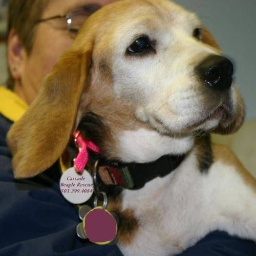dog: (10, 3, 256, 253)
